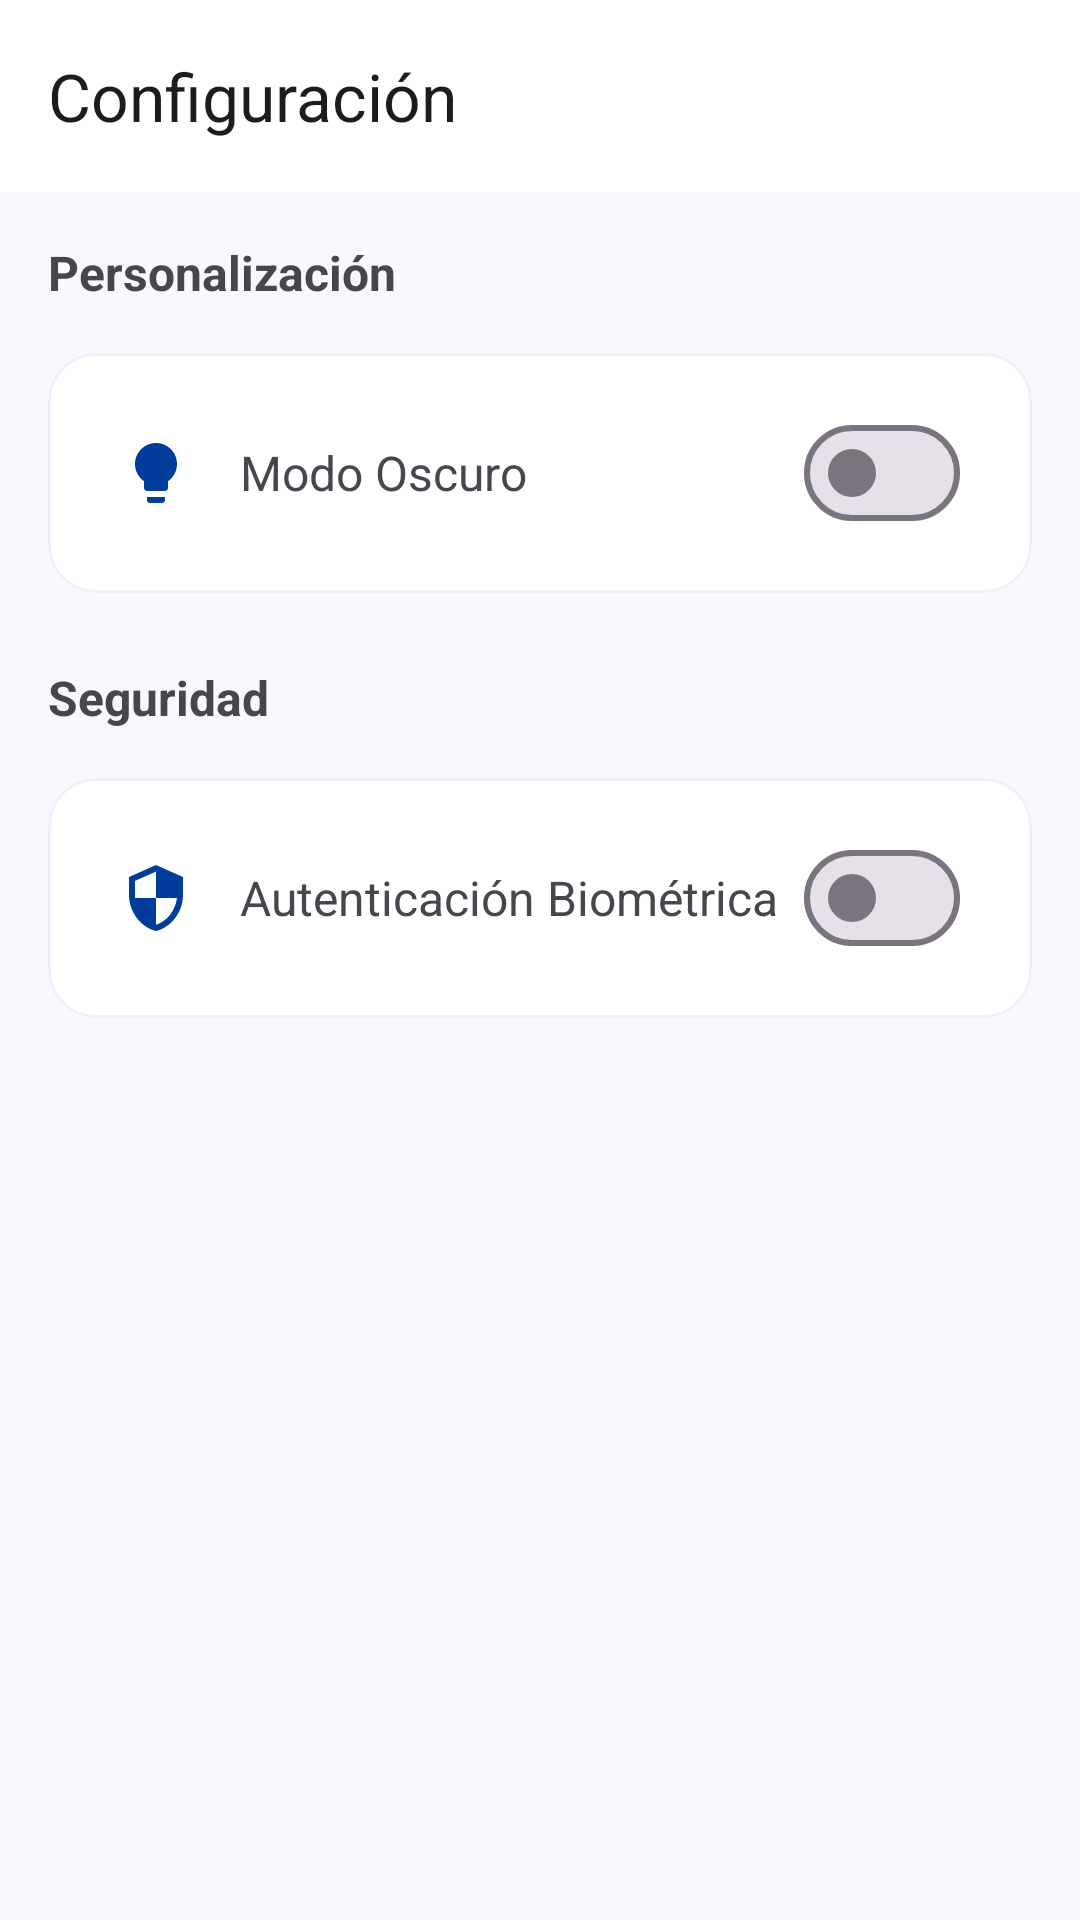

Icon click points for this 1080px x 1920px phone screenshot, format (x,y):
Dark Mode: (156,473)
